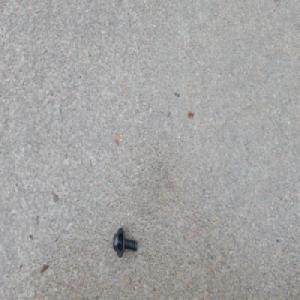BoltWasher: (112, 227, 138, 258)
